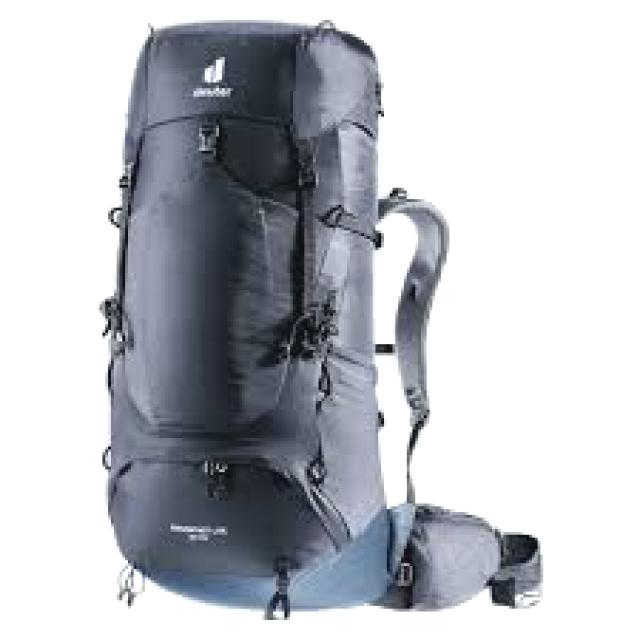backpack: (98, 18, 542, 618)
